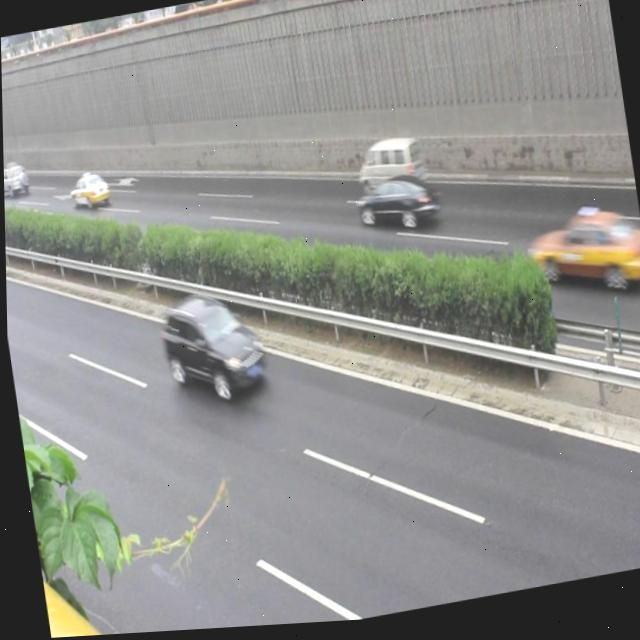car: (154, 284, 270, 412), (514, 195, 637, 313), (352, 170, 439, 247)
truck: (346, 132, 428, 206)
